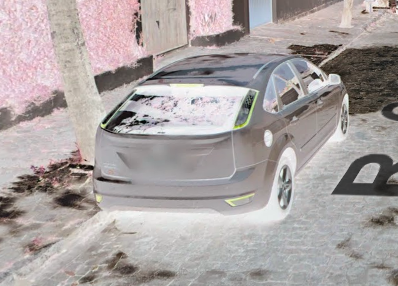car: (91, 52, 352, 222)
